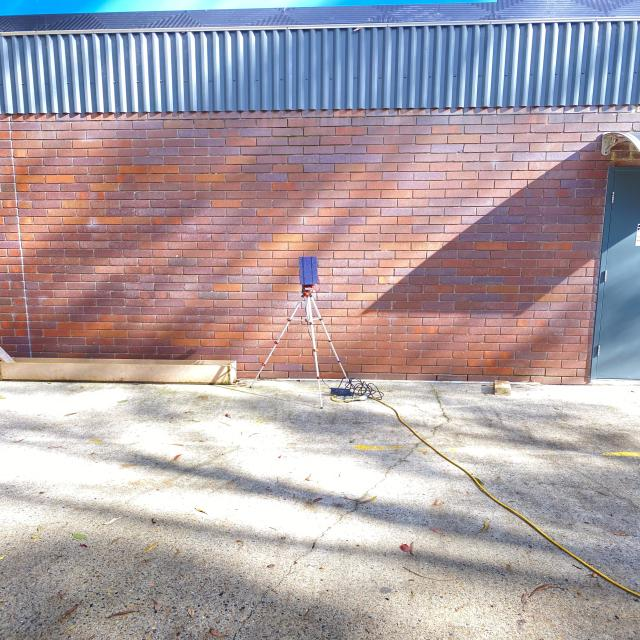matrix: (298, 256, 322, 286)
